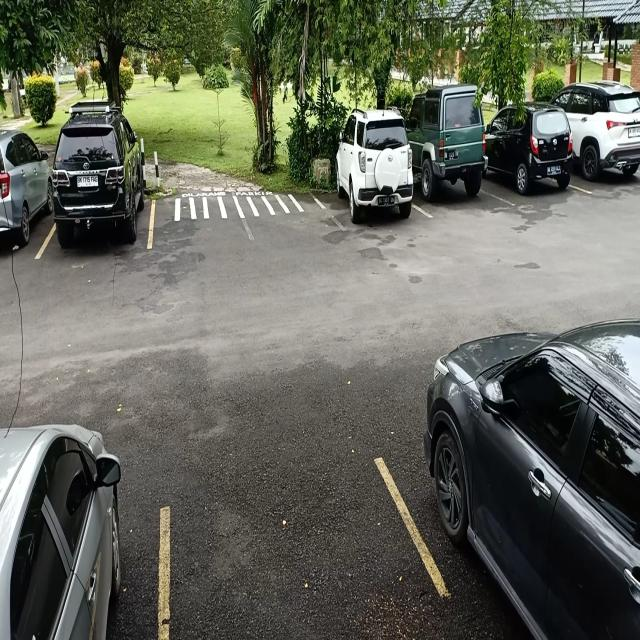occupied: (39, 132, 154, 259), (330, 138, 420, 232), (487, 122, 574, 210), (416, 121, 492, 220)
